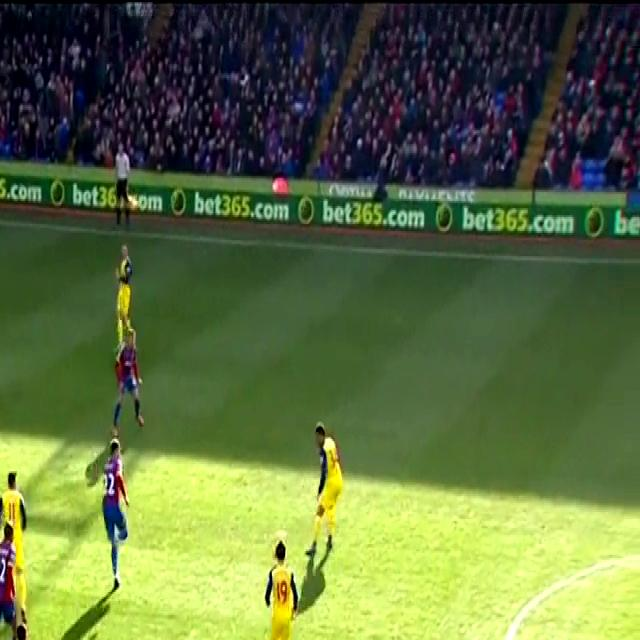referee: (114, 140, 140, 232), (5, 618, 42, 640)
soccer-player: (90, 430, 134, 596), (304, 409, 344, 563), (0, 457, 30, 617), (261, 538, 305, 640), (111, 322, 147, 431), (112, 241, 139, 336), (0, 519, 17, 640)
